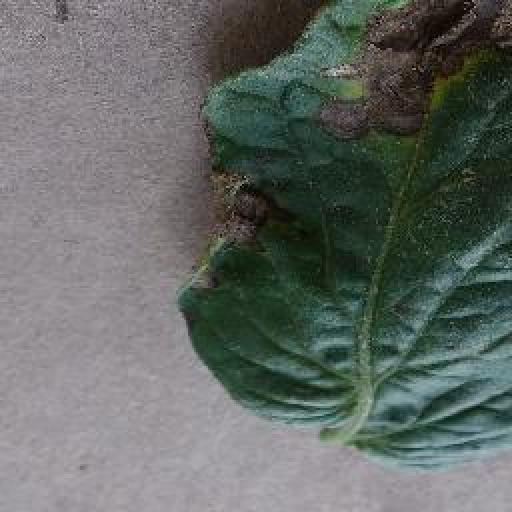Early Blight: (174, 2, 512, 472)
